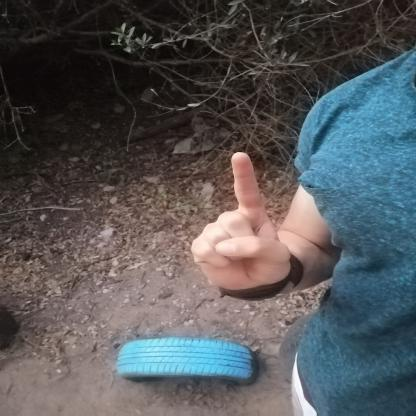BAA: (180, 134, 301, 308)
